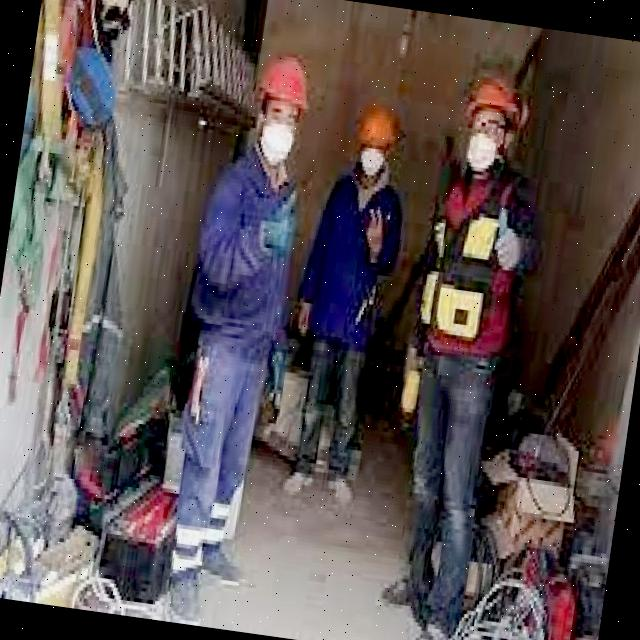helmet: (462, 73, 532, 133), (256, 48, 318, 107), (354, 111, 396, 153)
vest: (404, 164, 540, 376)
